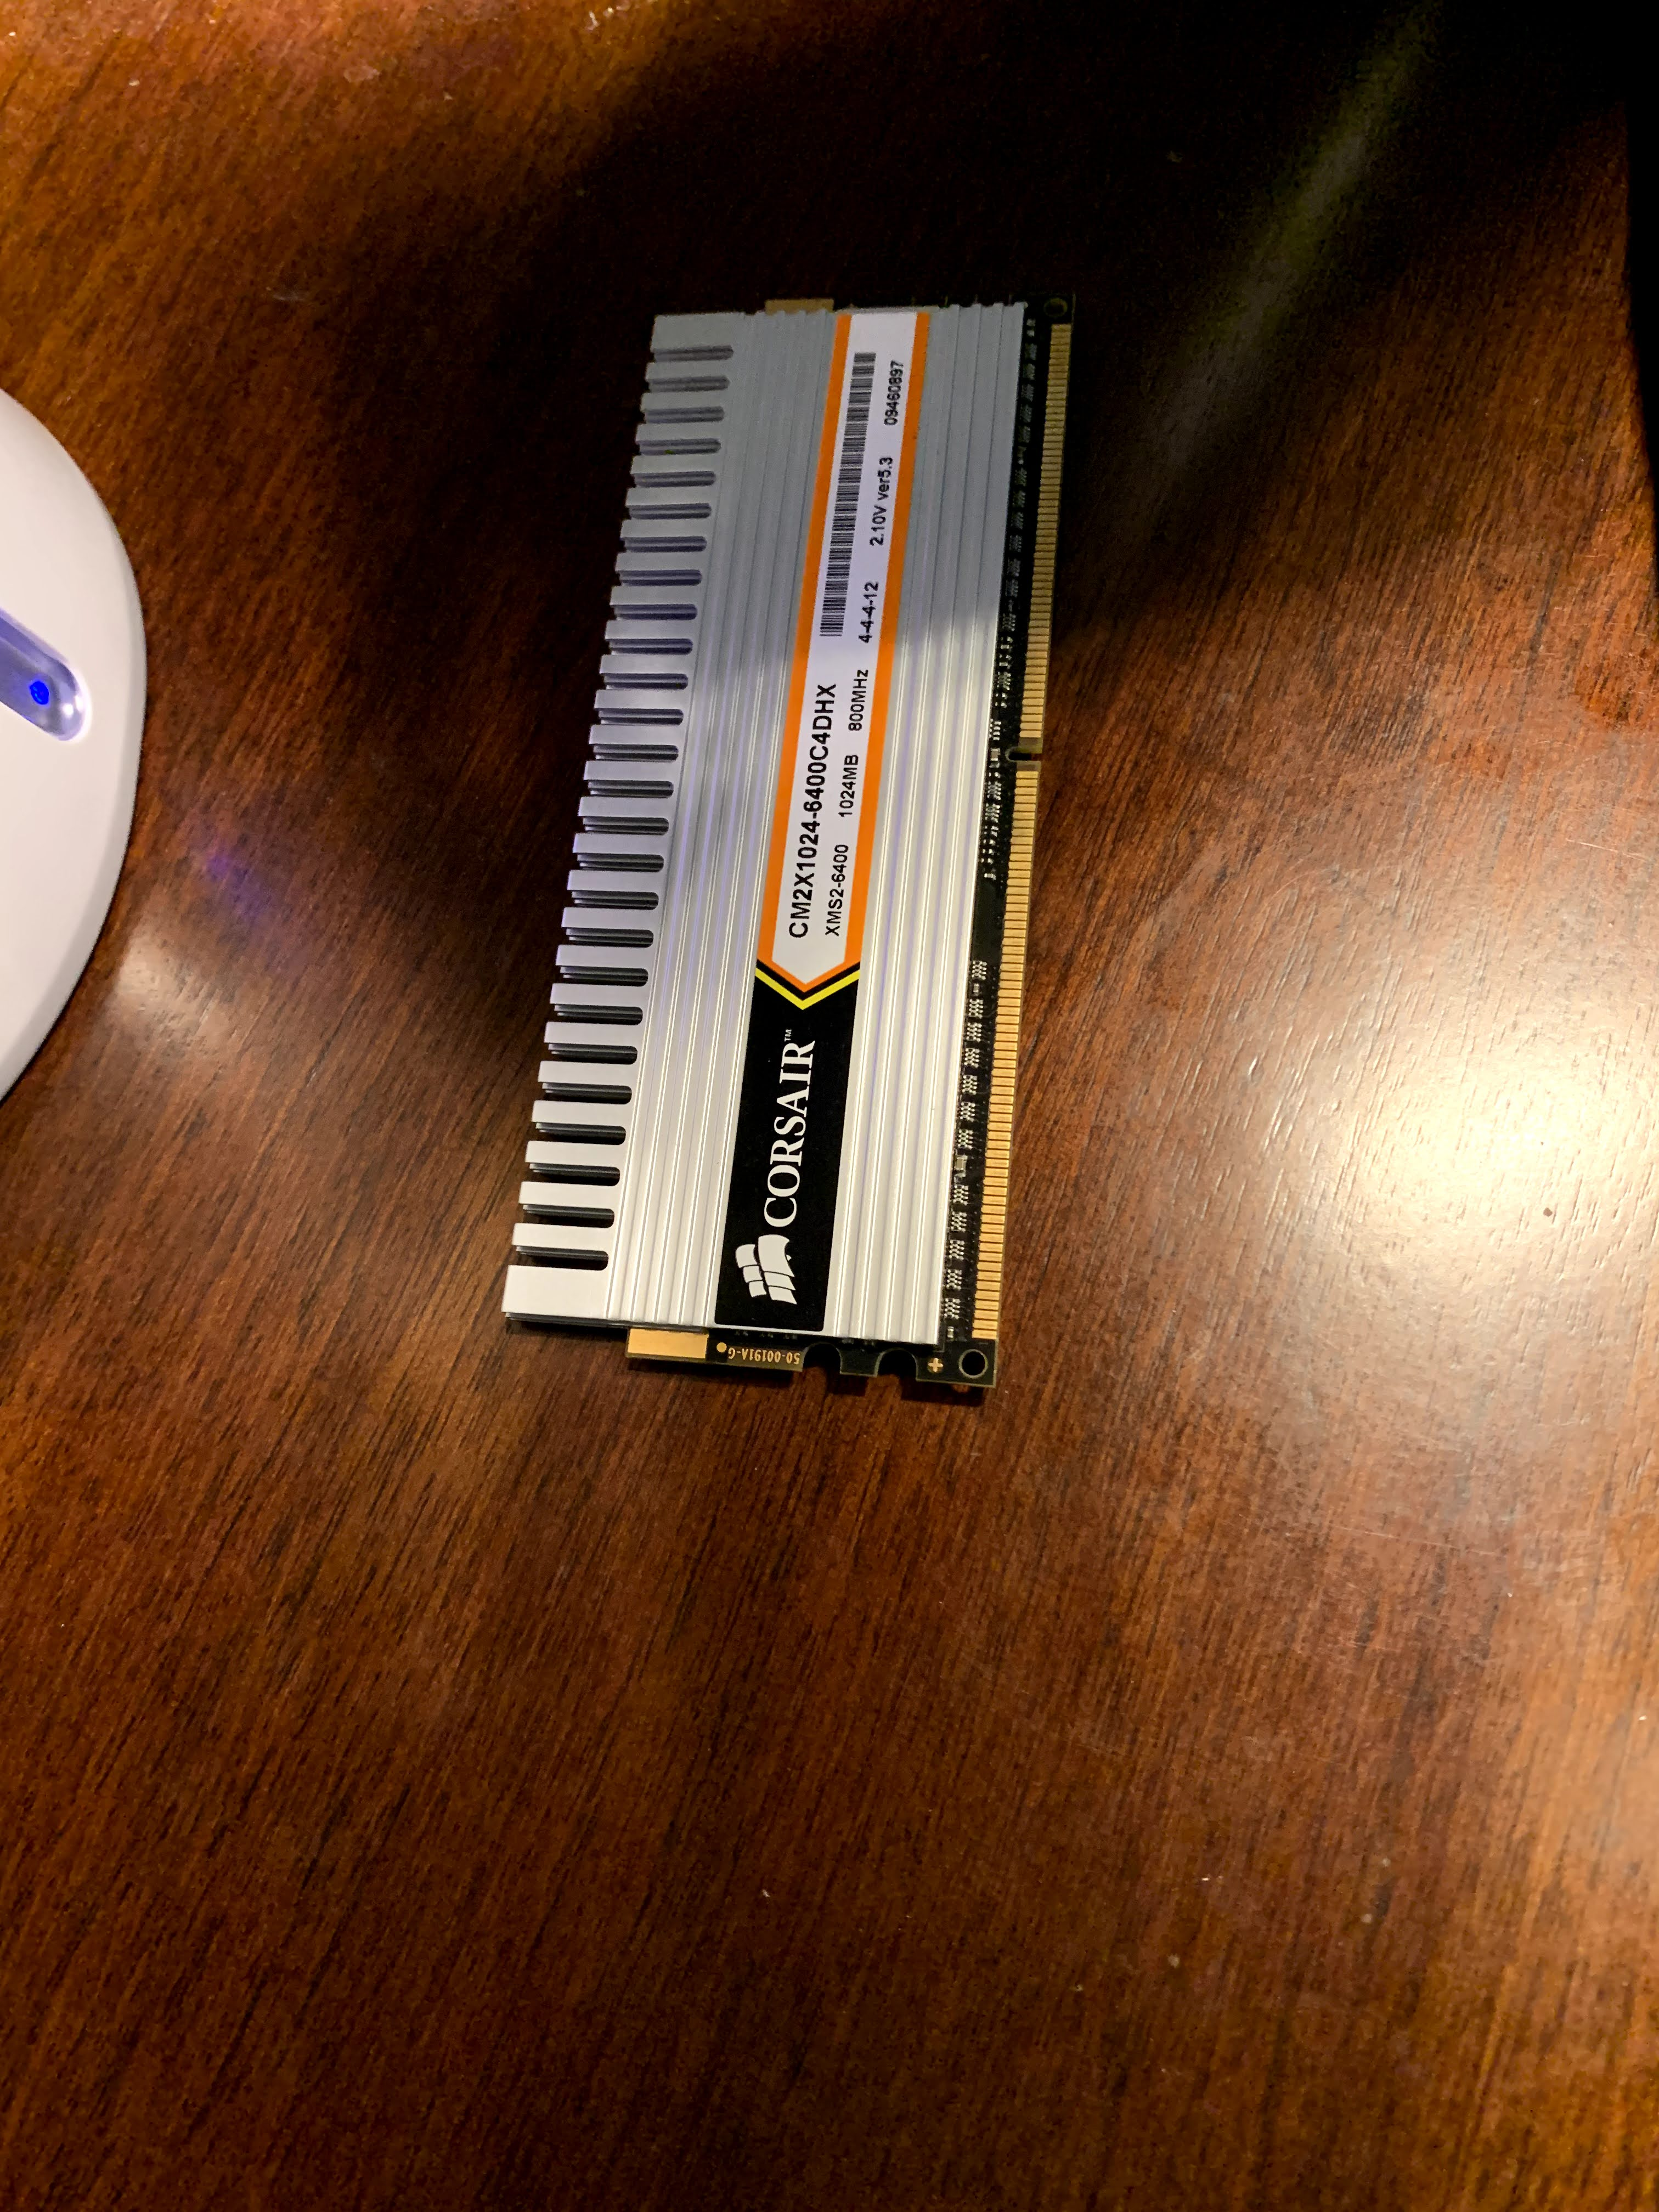Space-debris-medium: (505, 244, 1075, 1447)
